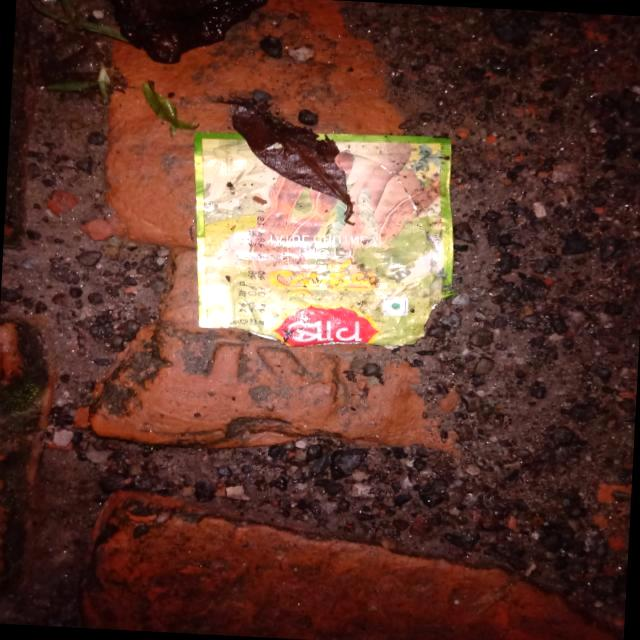packet: (182, 119, 465, 355)
